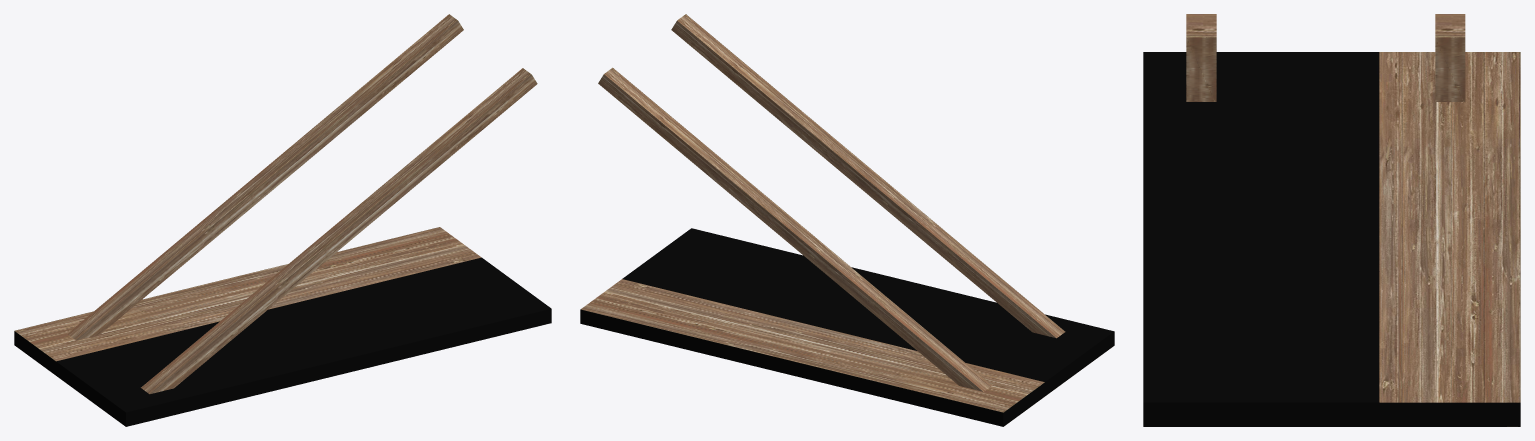
Rendered from dockFBXCollapsed.FBX.
3 renders of one model, left to right at view 1: azimuth 30°, elevation 25°; view 2: azimuth 150°, elevation 25°; view 3: azimuth 270°, elevation 25°, orthographic. The views are drawn at different scales.
Parts seen in each view (by area): view 1: Box002; view 2: Box002; view 3: Box002.
Part boxes in pixels (bbox=[...]): Box002: bbox=[14, 14, 551, 426]; Box002: bbox=[580, 14, 1114, 426]; Box002: bbox=[1143, 14, 1520, 426].
Bounding box in the file's own units: 97.23 × 52.61 × 44.22.
1 material, 1 textured.
